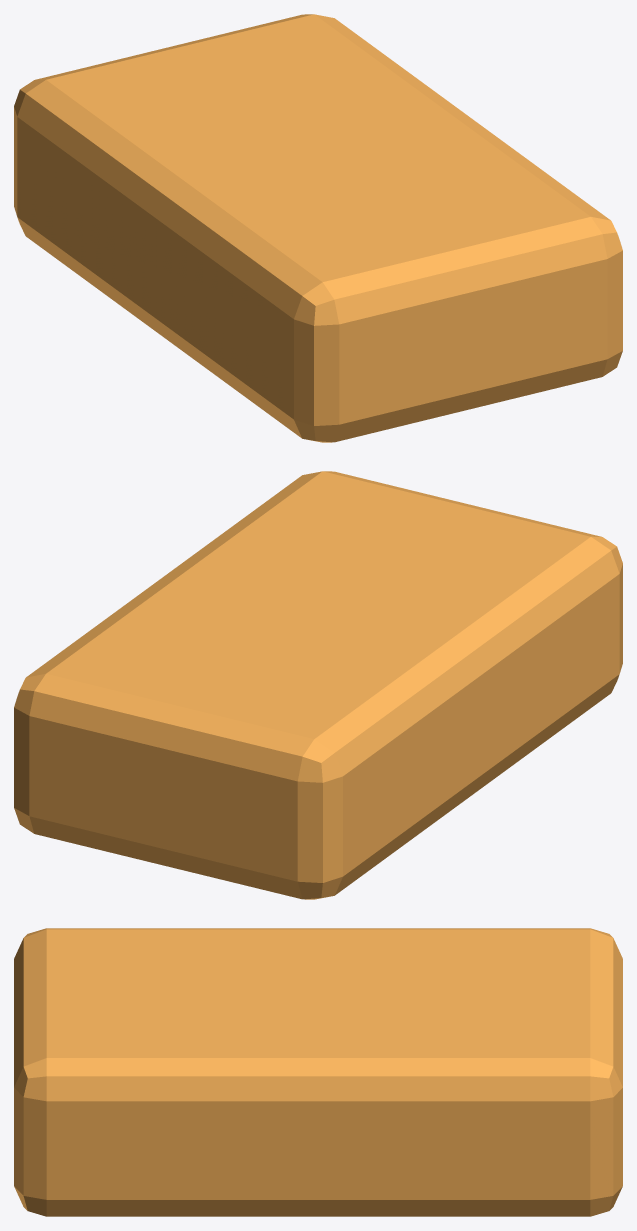
Rendered from Street_LampHead2.obj.
The picture shows the model from 3 angles, top to bottom: view 1: azimuth 30°, elevation 25°; view 2: azimuth 150°, elevation 25°; view 3: azimuth 270°, elevation 25°; orthographic projection.
Bounding box in the file's own units: 0.34 × 0.16 × 0.56.
